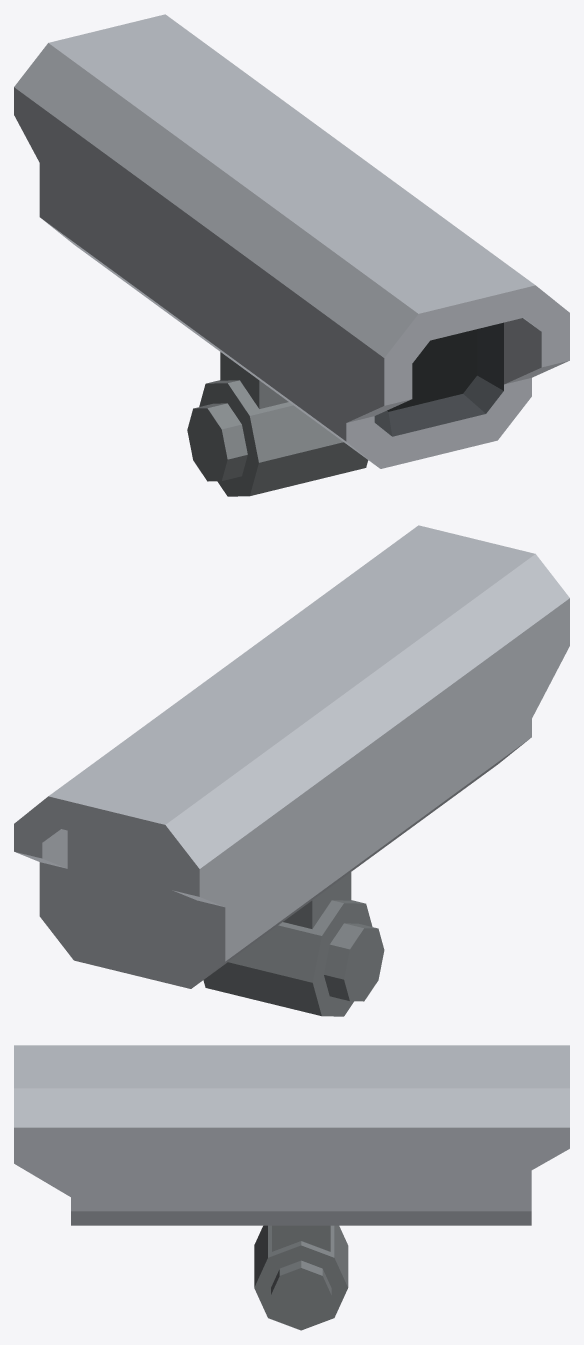
The model's file is SM_Prop_WallCamera_01_Camera_01.obj.
3 views of the same model, one above another, from view 1: azimuth 30°, elevation 25°; view 2: azimuth 150°, elevation 25°; view 3: azimuth 270°, elevation 25° (orthographic). The views are drawn at different scales.
Parts seen in each view (by area): view 1: SM_Prop_WallCamera_01_Camera_01_0; view 2: SM_Prop_WallCamera_01_Camera_01_0; view 3: SM_Prop_WallCamera_01_Camera_01_0.
Boxes of the visible parts, x1,y1,x2,y2 form: SM_Prop_WallCamera_01_Camera_01_0: [14, 14, 569, 496]; SM_Prop_WallCamera_01_Camera_01_0: [14, 525, 569, 1016]; SM_Prop_WallCamera_01_Camera_01_0: [14, 1045, 569, 1330].
Bounding box in the file's own units: 0.1416 × 0.2353 × 0.4892.
Materials: 1 (1 with a texture image).
